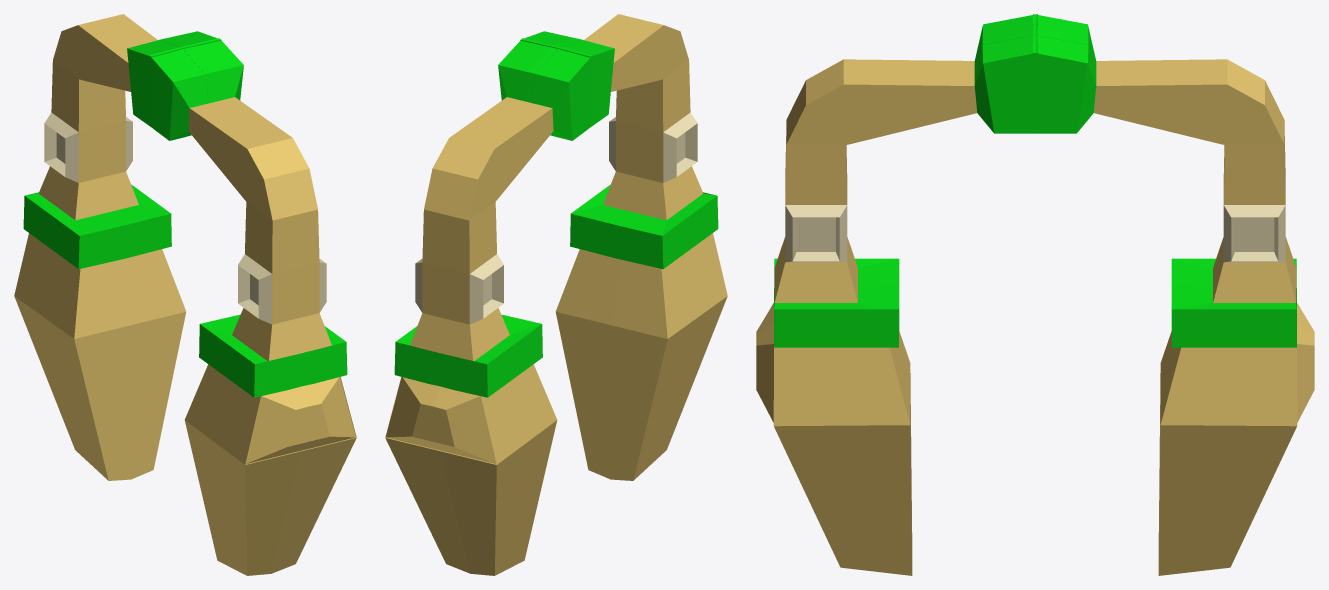
The model's file is Portal.fbx.
3 renders of one model, left to right at view 1: azimuth 30°, elevation 25°; view 2: azimuth 150°, elevation 25°; view 3: azimuth 270°, elevation 25°, orthographic. The views are drawn at different scales.
Visible parts, largest first — view 1: Cube; view 2: Cube; view 3: Cube.
Boxes of the visible parts, x1,y1,x2,y2 form: Cube: (14,14,356,575); Cube: (385,14,727,575); Cube: (756,14,1314,575).
Size of the model in its own units: 199 by 802 by 758.
